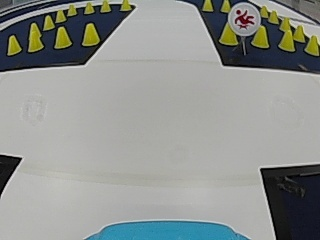cone: (81, 22, 99, 46), (219, 23, 237, 45), (28, 24, 42, 52), (252, 26, 269, 49), (278, 29, 294, 51), (54, 27, 70, 48), (304, 34, 318, 56), (7, 34, 20, 55), (293, 24, 304, 42), (43, 13, 54, 30), (55, 9, 66, 23), (269, 8, 278, 24), (100, 0, 111, 13), (202, 0, 213, 12), (67, 3, 77, 16), (120, 0, 131, 11), (84, 2, 94, 14), (220, 0, 230, 12), (260, 4, 268, 18)
tumble: (231, 5, 259, 31)
